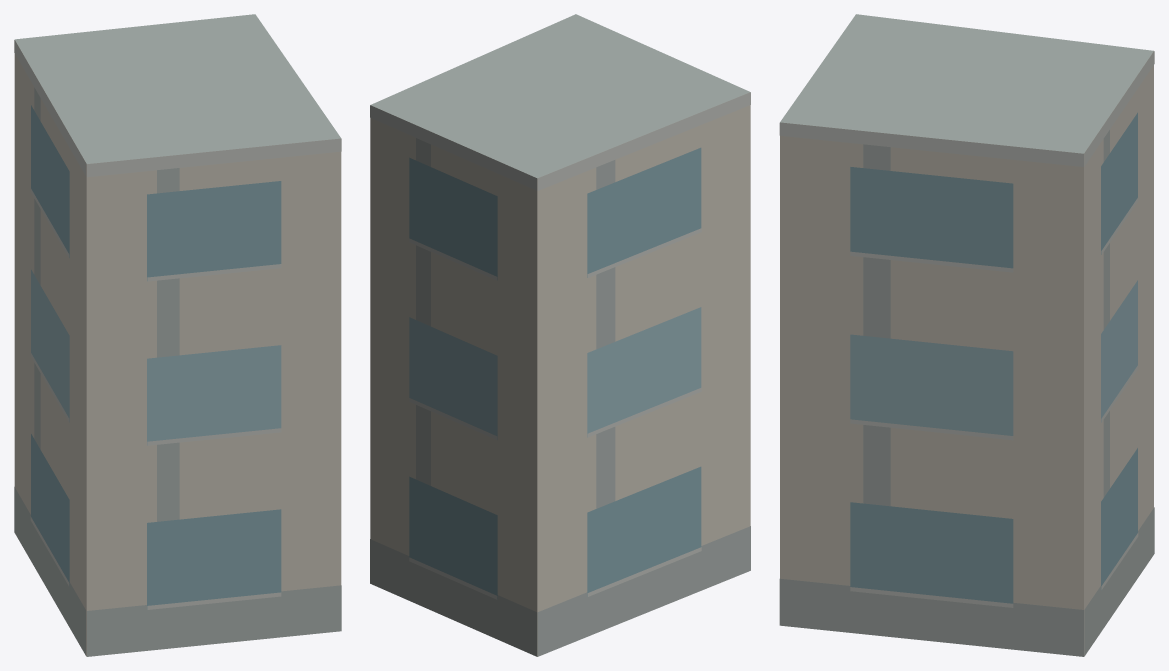
The model's file is survey-upis-32646375.glb.
3 views of the same model, side by side, from view 1: azimuth 30°, elevation 25°; view 2: azimuth 150°, elevation 25°; view 3: azimuth 270°, elevation 25° (orthographic). The views are drawn at different scales.
Visible parts, largest first — view 1: survey-upis-32646375.tmp; view 2: survey-upis-32646375.tmp; view 3: survey-upis-32646375.tmp.
Part boxes in pixels (x1,y1,x2,y2): survey-upis-32646375.tmp: (14, 14, 341, 656); survey-upis-32646375.tmp: (370, 14, 750, 656); survey-upis-32646375.tmp: (779, 14, 1154, 656).
Bounding box in the file's own units: 5.46 × 9.15 × 6.18.
